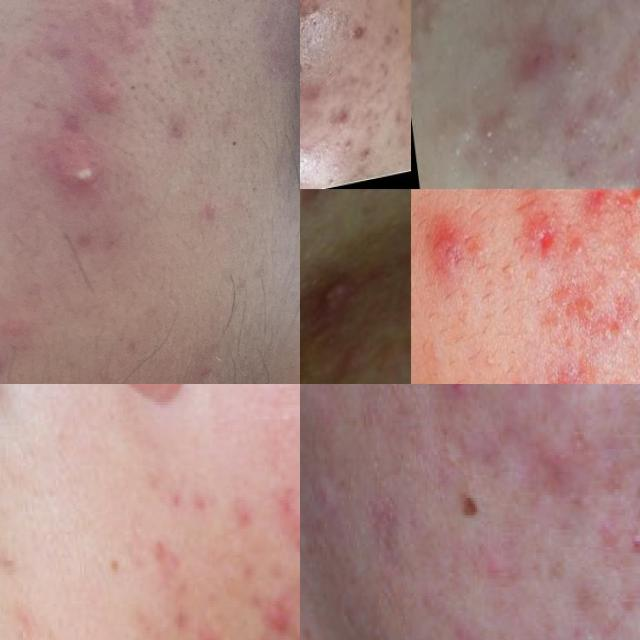acne_scars: (544, 260, 640, 365)
comedone: (559, 222, 599, 280), (411, 0, 450, 36), (609, 155, 640, 189), (614, 189, 640, 225), (324, 153, 344, 177)
papule: (411, 207, 494, 290), (511, 28, 556, 91), (331, 91, 358, 128), (343, 17, 376, 47), (300, 49, 305, 75)
pustule: (544, 368, 593, 384)
sebo-crystan-conglo: (312, 260, 360, 324)
